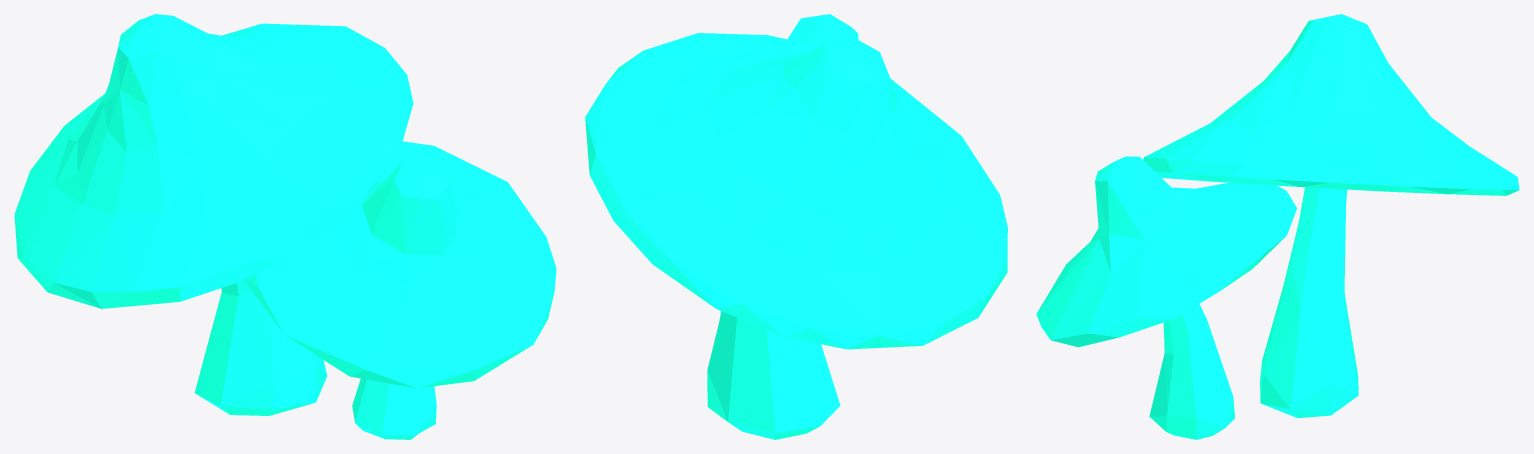
File: bright_0.glb
3 views of the same model, side by side, from view 1: azimuth 30°, elevation 25°; view 2: azimuth 150°, elevation 25°; view 3: azimuth 270°, elevation 25° (orthographic). The views are drawn at different scales.
Visible parts, largest first — view 1: bright_0; view 2: bright_0; view 3: bright_0.
Boxes of the visible parts, bbox=[...] form: bright_0: bbox=[14, 14, 556, 439]; bright_0: bbox=[585, 14, 1007, 439]; bright_0: bbox=[1036, 14, 1519, 439].
Size of the model in its own units: 6.49 by 6.05 by 7.56.
